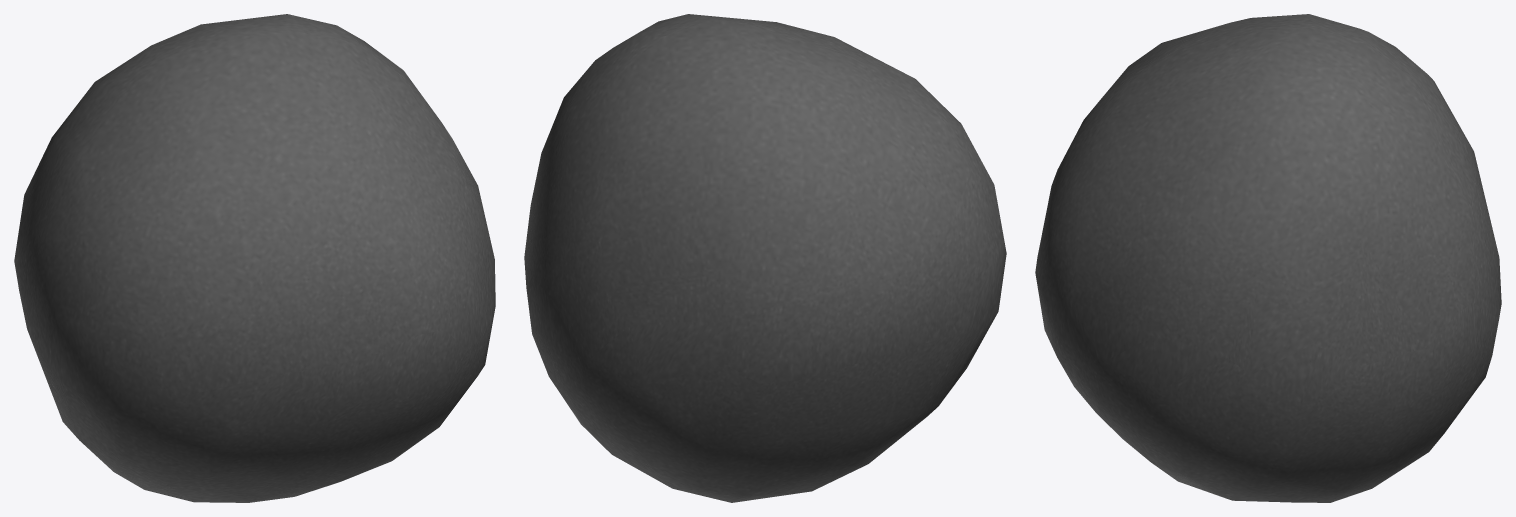
The model's file is asteroid6.fbx.
The picture shows the model from 3 angles, left to right: view 1: azimuth 30°, elevation 25°; view 2: azimuth 150°, elevation 25°; view 3: azimuth 270°, elevation 25°; orthographic projection.
Visible parts, largest first — view 1: Icosphere; view 2: Icosphere; view 3: Icosphere.
Part boxes in pixels (box(x1,y1,x2,y2)): Icosphere: box(14, 14, 495, 502); Icosphere: box(524, 14, 1006, 502); Icosphere: box(1035, 14, 1501, 502).
Bounding box in the file's own units: 194 × 196 × 183.
